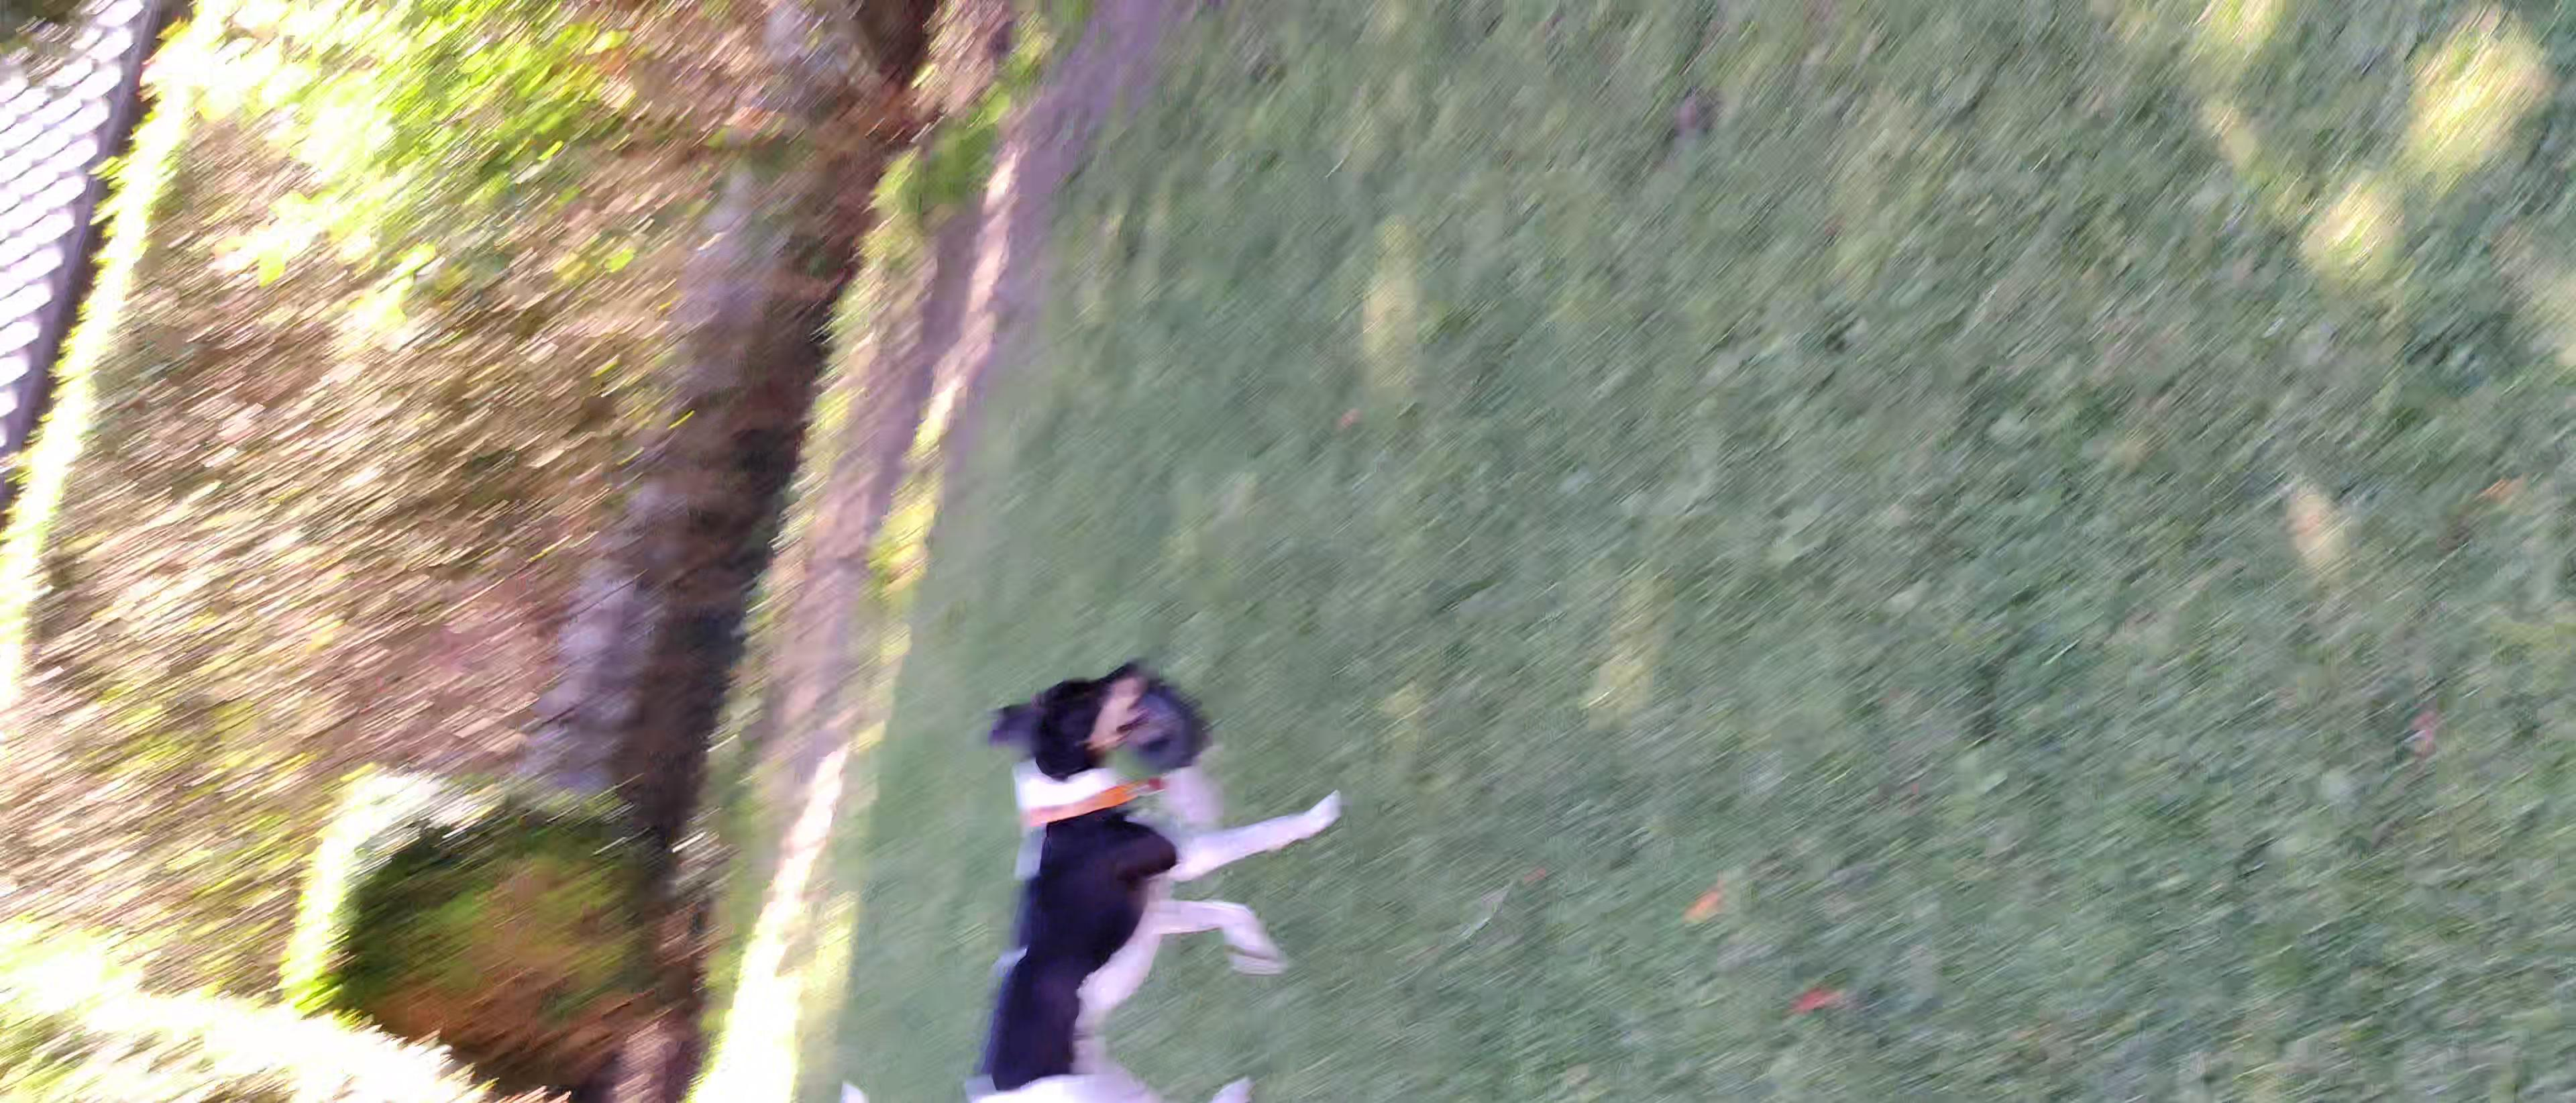Dog: (831, 646, 1352, 1103)
